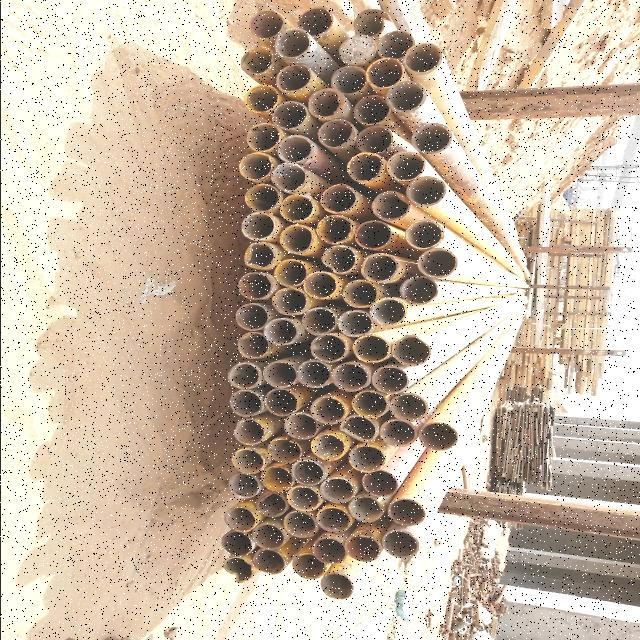pipe: (404, 37, 444, 75), (409, 122, 454, 154), (234, 148, 274, 184), (384, 150, 426, 184), (316, 116, 356, 150), (350, 331, 392, 363), (329, 362, 372, 393), (406, 175, 446, 208), (231, 272, 275, 302), (340, 275, 380, 308), (417, 421, 461, 451), (352, 90, 388, 126), (294, 5, 334, 37), (364, 56, 404, 88), (346, 151, 386, 183), (231, 300, 271, 332), (393, 334, 433, 366), (359, 254, 404, 282), (306, 333, 348, 363), (388, 393, 430, 423), (371, 188, 408, 222), (418, 247, 458, 278), (248, 6, 284, 40), (242, 81, 278, 115), (278, 221, 314, 255), (354, 7, 392, 39), (306, 87, 344, 119), (246, 121, 284, 153), (369, 296, 407, 328), (399, 277, 442, 305), (336, 35, 376, 65), (386, 82, 426, 112), (354, 124, 394, 154), (275, 134, 315, 164), (316, 214, 356, 244), (316, 244, 356, 274), (406, 218, 444, 249), (262, 315, 300, 346), (274, 27, 310, 59), (238, 45, 274, 77), (270, 100, 306, 132), (302, 306, 338, 338), (377, 29, 415, 59), (277, 193, 315, 223), (378, 420, 418, 448), (362, 470, 402, 498), (382, 531, 422, 559), (237, 212, 274, 242), (352, 389, 389, 419), (263, 438, 305, 464), (322, 182, 356, 214), (304, 270, 338, 302), (274, 286, 308, 318), (330, 64, 366, 94), (269, 161, 305, 191), (354, 219, 390, 249), (222, 362, 262, 389), (282, 411, 318, 441), (319, 474, 355, 504), (390, 498, 426, 528), (316, 504, 352, 534), (290, 552, 326, 582), (298, 362, 336, 390), (308, 434, 346, 462), (276, 63, 310, 93), (244, 182, 278, 212), (338, 310, 372, 340), (314, 536, 348, 566), (242, 241, 278, 269), (311, 396, 347, 424), (229, 417, 265, 445), (344, 534, 380, 562), (320, 572, 356, 600), (264, 358, 296, 389), (373, 367, 411, 393), (230, 448, 268, 474), (347, 496, 385, 522), (340, 417, 380, 441), (348, 448, 388, 472), (272, 259, 306, 287), (228, 390, 262, 418), (260, 465, 294, 493), (230, 333, 266, 359), (220, 556, 253, 584), (293, 458, 325, 486), (264, 390, 298, 416), (284, 512, 318, 538), (252, 523, 286, 549), (224, 474, 260, 498), (286, 487, 322, 511), (255, 492, 288, 518), (220, 530, 252, 556), (224, 507, 256, 531), (251, 552, 285, 574)
